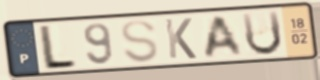9: (82, 21, 114, 66)
A: (202, 14, 246, 61)
K: (162, 17, 199, 61)
L: (38, 22, 79, 72)
S: (119, 18, 162, 65)
U: (239, 8, 285, 58)
